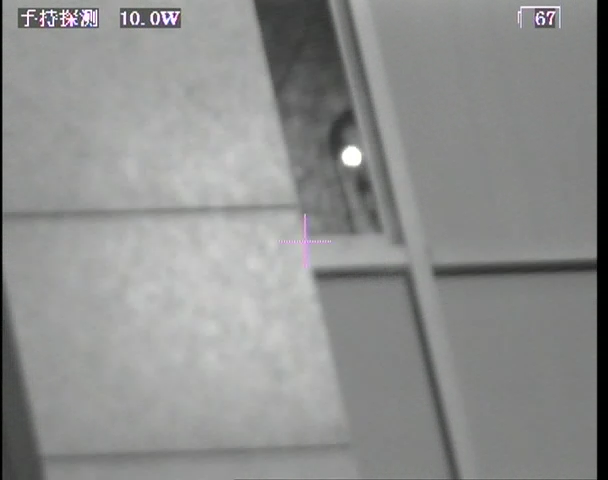my: (337, 142, 366, 167)
